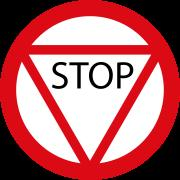Stop: (2, 6, 176, 177)
